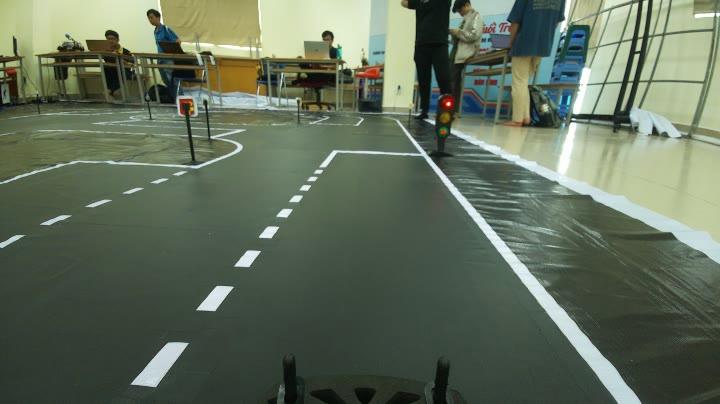trafficlight: (422, 85, 461, 172)
